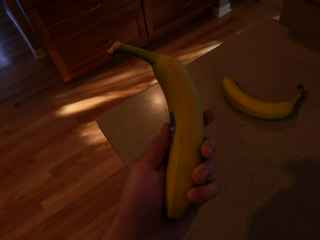banana: (98, 36, 212, 225), (218, 70, 312, 127)
